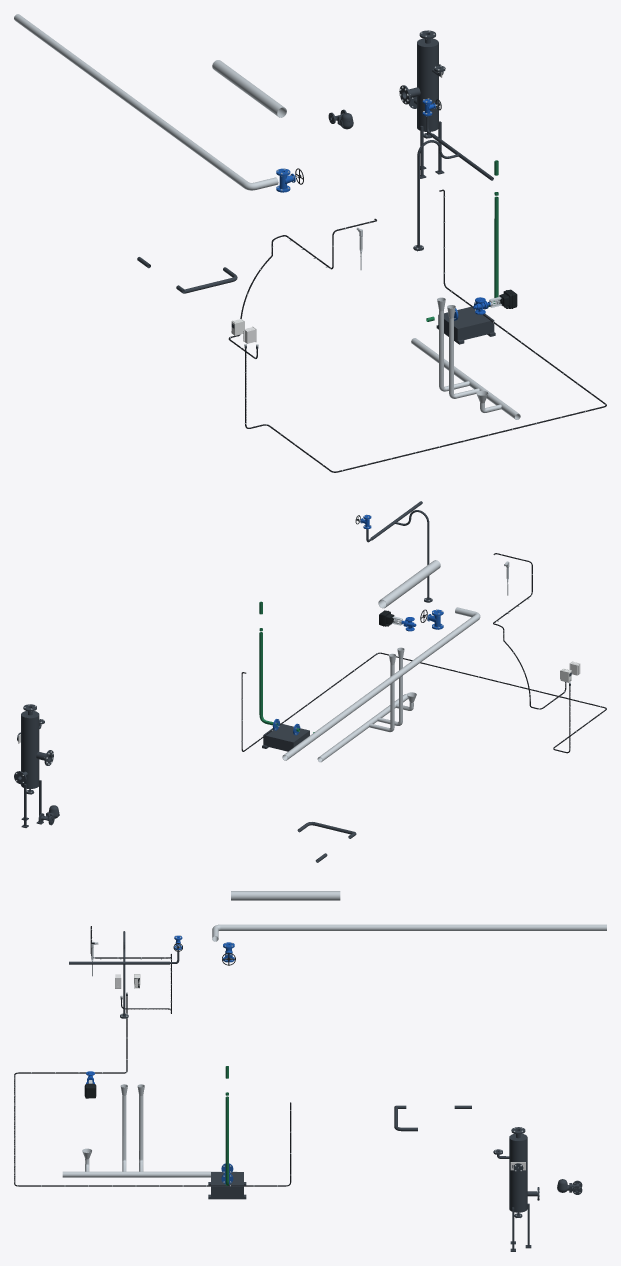
The model's file is s4000-5-CL5ozrna.glb.
The picture shows the model from 3 angles, top to bottom: view 1: azimuth 30°, elevation 25°; view 2: azimuth 150°, elevation 25°; view 3: azimuth 270°, elevation 25°; orthographic projection. The views are drawn at different scales.
Visible parts, largest first — view 1: separator_fv8 / dark, safety_vent_2 / steel, local_open_drains / steel, wiring_pump_2 / black, pump_branch_1 / dark, steam_delivery / steel, pressure_header / dark, pump_branch_1 / green, bcv925 / bcv925_0.npz; view 2: separator_fv8 / dark, safety_vent_2 / steel, local_open_drains / steel, wiring_pump_2 / black, pump_branch_1 / dark, steam_delivery / steel, pressure_header / dark, pump_branch_1 / green; view 3: safety_vent_2 / steel, local_open_drains / steel, separator_fv8 / dark, wiring_pump_2 / black, steam_delivery / steel, pump_branch_1 / dark, pressure_header / dark.
Boxes of the visible parts, x1,y1,x2,y2 form: separator_fv8 / dark: [399, 30, 445, 178]; safety_vent_2 / steel: [14, 14, 278, 190]; local_open_drains / steel: [411, 297, 520, 419]; wiring_pump_2 / black: [245, 189, 606, 472]; pump_branch_1 / dark: [436, 306, 495, 344]; steam_delivery / steel: [212, 60, 286, 117]; pressure_header / dark: [413, 116, 493, 250]; pump_branch_1 / green: [426, 160, 498, 321]; bcv925 / bcv925_0.npz: [473, 289, 517, 314]; separator_fv8 / dark: [14, 704, 53, 827]; safety_vent_2 / steel: [282, 607, 480, 760]; local_open_drains / steel: [317, 647, 416, 762]; wiring_pump_2 / black: [241, 652, 606, 753]; pump_branch_1 / dark: [262, 723, 309, 751]; steam_delivery / steel: [378, 560, 440, 608]; pressure_header / dark: [366, 501, 432, 602]; pump_branch_1 / green: [259, 601, 314, 732]; safety_vent_2 / steel: [212, 924, 606, 941]; local_open_drains / steel: [62, 1084, 236, 1177]; separator_fv8 / dark: [493, 1127, 539, 1251]; wiring_pump_2 / black: [14, 996, 291, 1186]; steam_delivery / steel: [231, 891, 340, 900]; pump_branch_1 / dark: [208, 1172, 246, 1199]; pressure_header / dark: [69, 931, 179, 1018].
Size of the model in its own units: 5.02 by 3.03 by 7.03.
